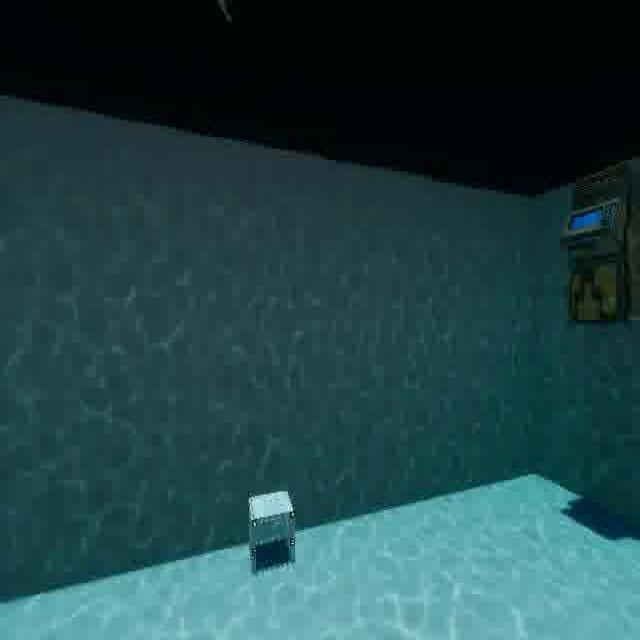Control Panel: (558, 158, 640, 328)
Docking Station: (246, 482, 304, 577)
